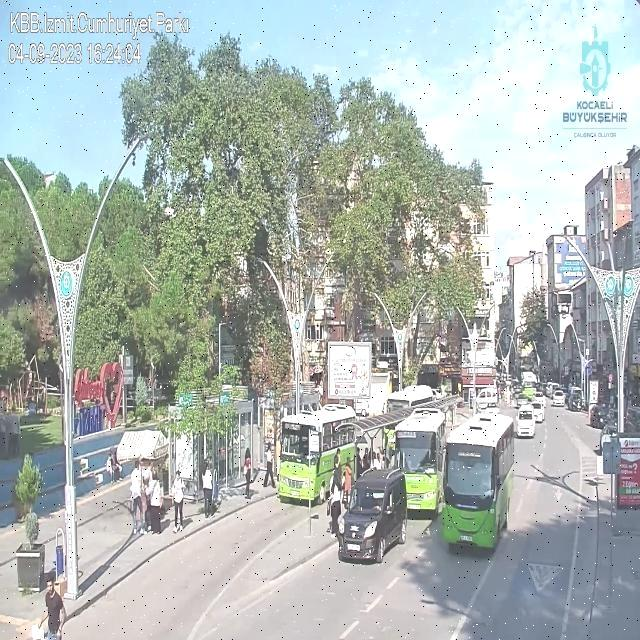Bus: (432, 412, 522, 559), (379, 396, 456, 521), (274, 405, 360, 501)
Car: (338, 468, 406, 566)
Van: (470, 386, 504, 412), (511, 406, 538, 438)
